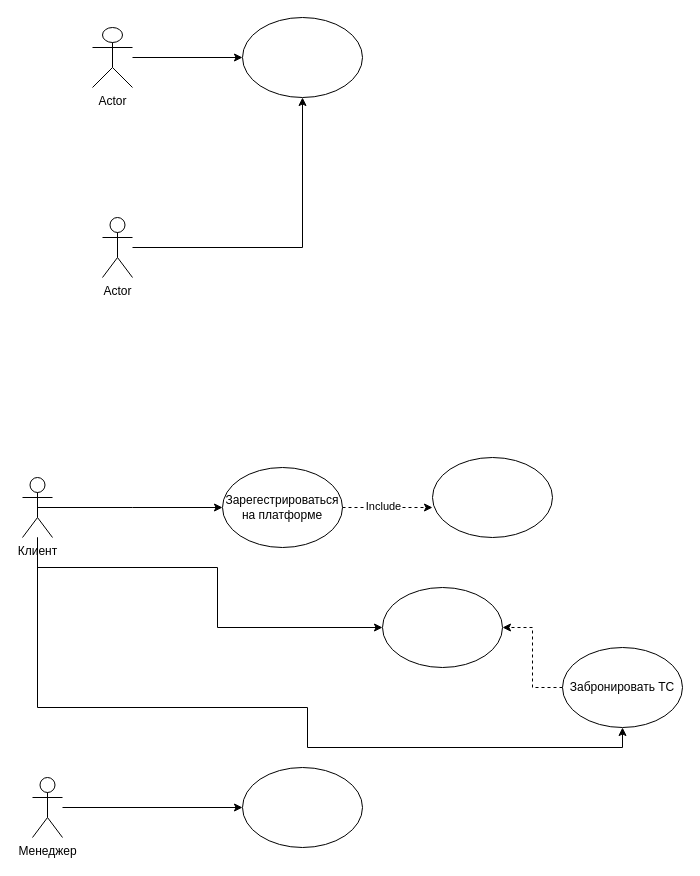
Some shapes in this 700 by 876 pixel diagram are drawn without their labels. The centre of each missing label's shape, as x and y in pixels:
"Прикрепить докменты" belongs at point (492, 497).
"Проверка данных клиента" belongs at point (302, 807).
"Просмотреть уведомление о результатах проверки" belongs at point (442, 627).
